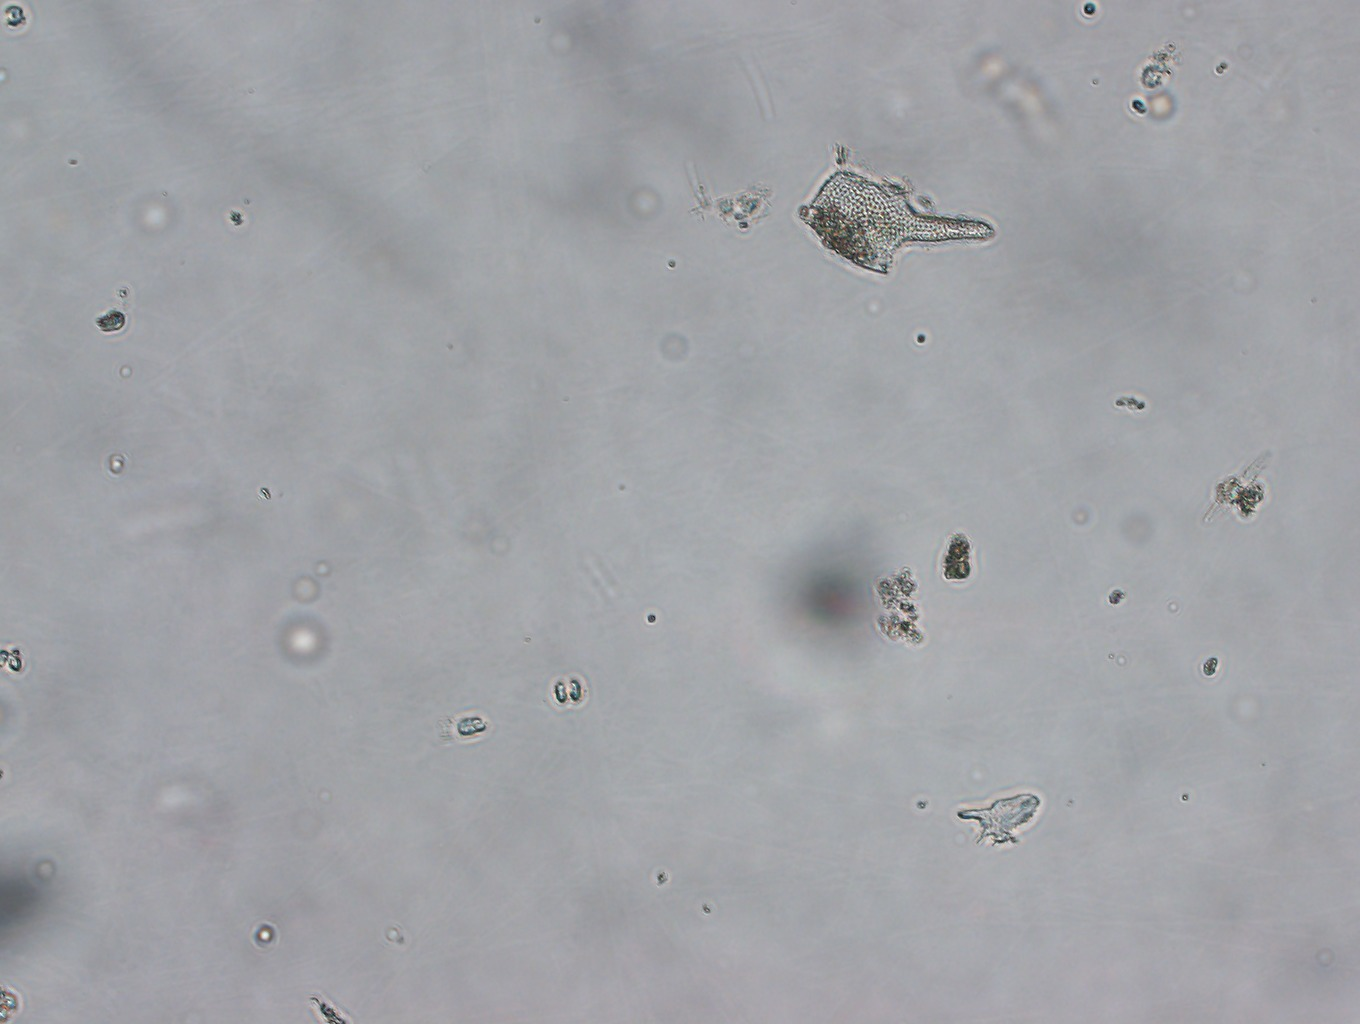dinophysis caudata: (792, 151, 998, 280)
